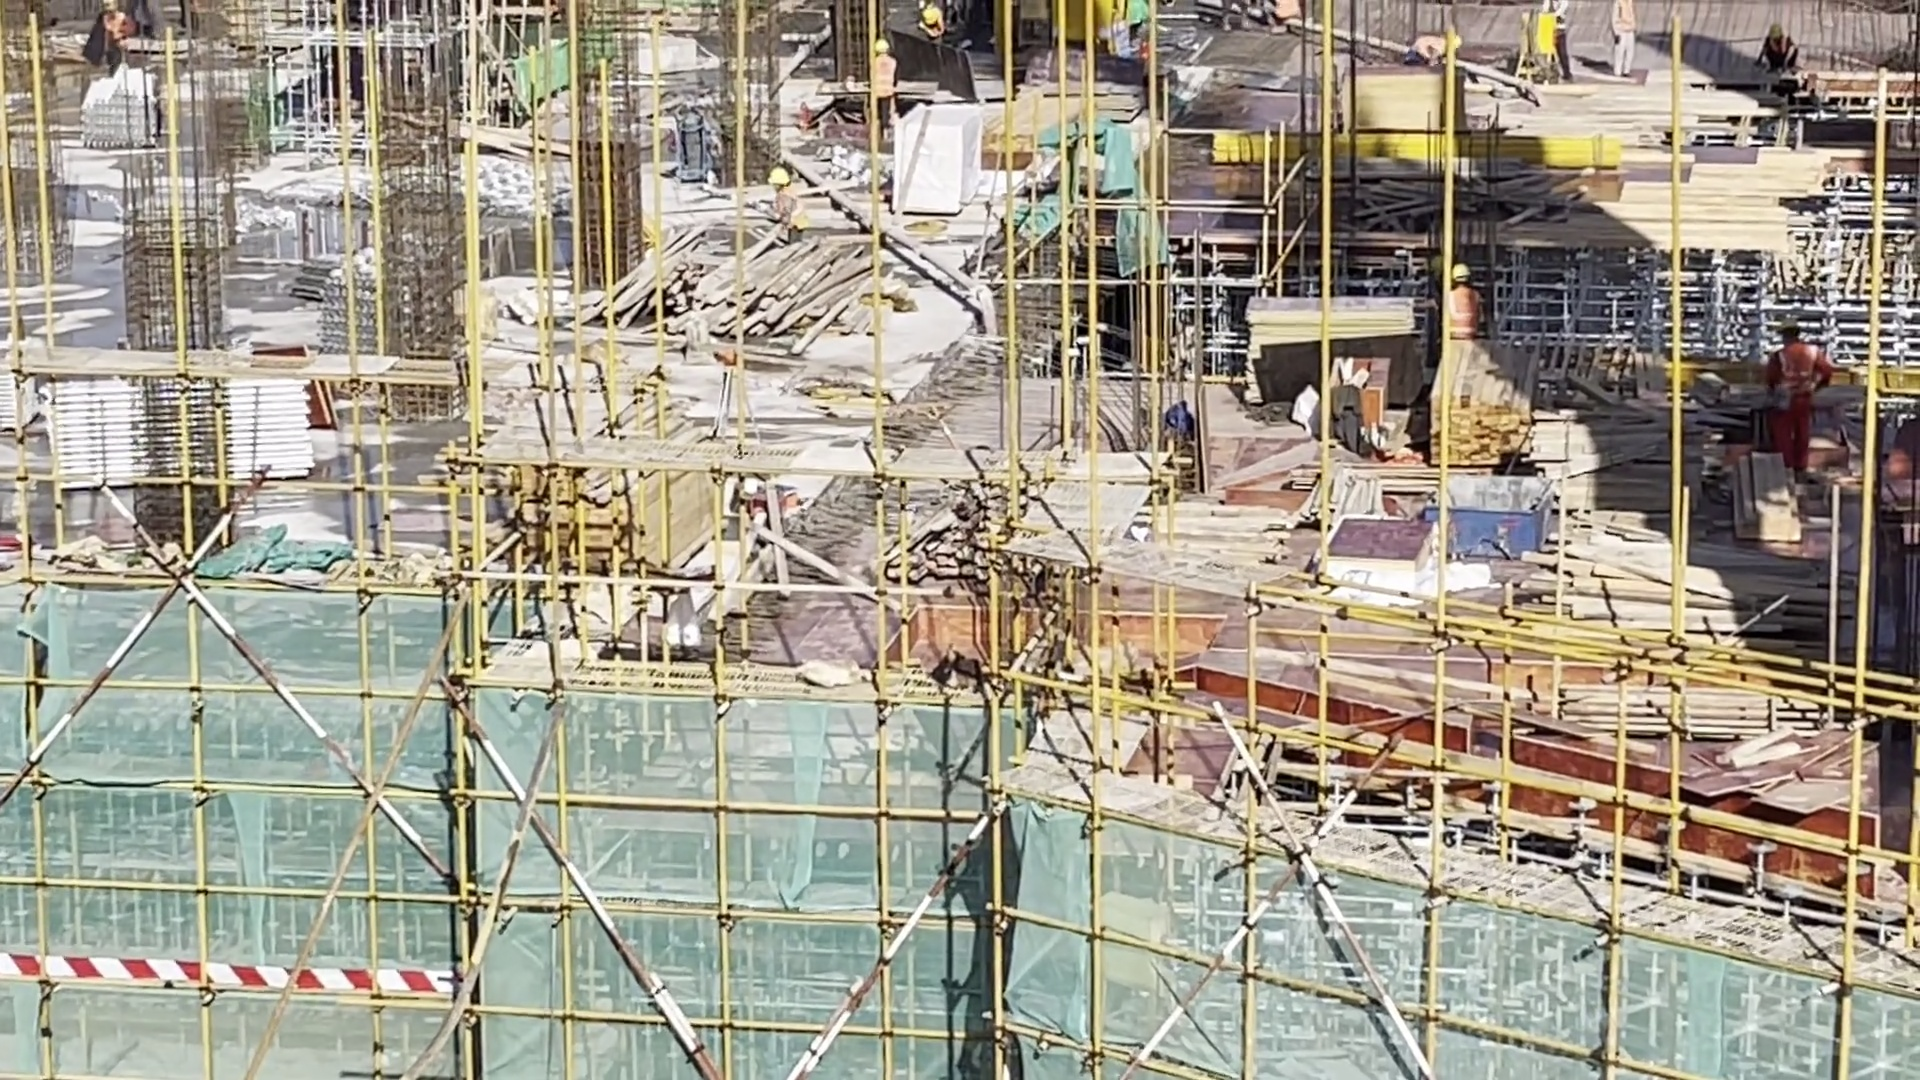board: (1722, 752, 1870, 846)
helmet: (1770, 318, 1807, 358), (766, 165, 793, 197), (1447, 258, 1477, 285), (738, 475, 764, 502), (871, 35, 896, 65), (917, 8, 941, 32)
hopper: (1423, 474, 1575, 572)
person: (1763, 316, 1824, 474), (750, 167, 814, 241), (721, 471, 793, 532), (1442, 264, 1492, 339), (1536, 1, 1579, 85), (92, 3, 138, 69), (1752, 21, 1805, 76), (868, 43, 900, 132), (914, 1, 953, 67), (1606, 1, 1639, 77)
scaffold: (43, 355, 319, 498)
vest: (1775, 346, 1816, 404), (1445, 288, 1485, 332), (868, 61, 899, 108)
wood: (1540, 530, 1808, 742), (492, 390, 722, 589), (628, 252, 886, 370), (1427, 349, 1536, 464)
